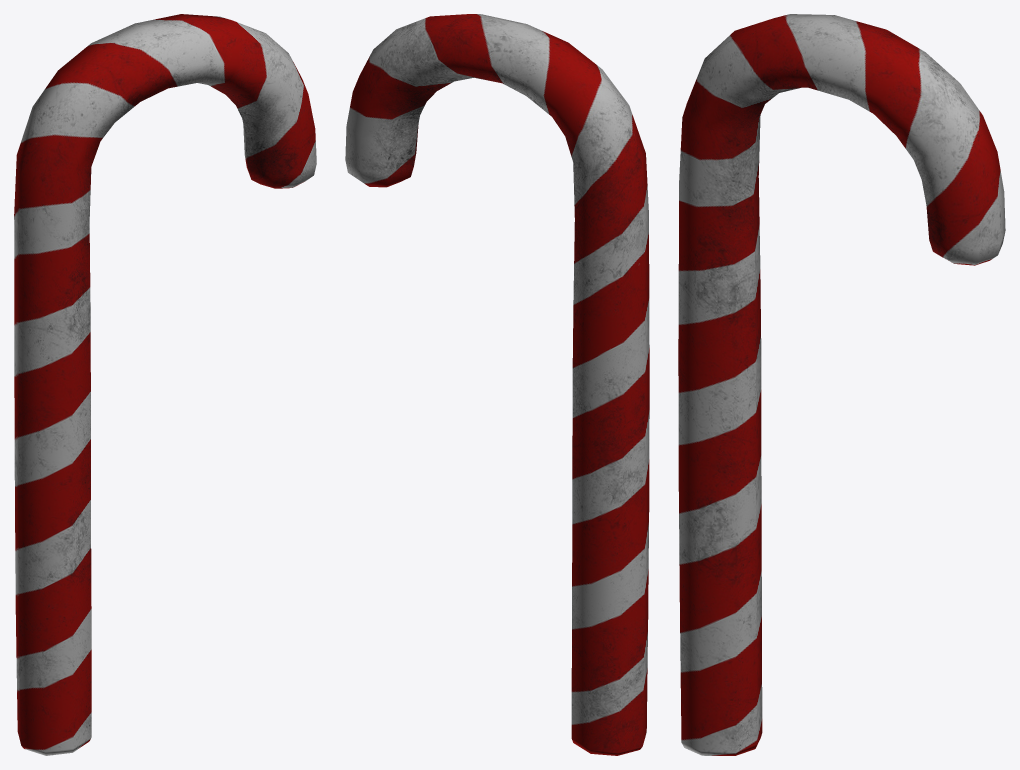
File: candy.glb
The picture shows the model from 3 angles, left to right: view 1: azimuth 30°, elevation 25°; view 2: azimuth 150°, elevation 25°; view 3: azimuth 330°, elevation 25°; orthographic projection. The views are drawn at different scales.
Parts seen in each view (by area): view 1: RetopoGroup1; view 2: RetopoGroup1; view 3: RetopoGroup1.
Boxes of the visible parts, x1,y1,x2,y2 form: RetopoGroup1: (14, 14, 316, 755); RetopoGroup1: (345, 14, 649, 755); RetopoGroup1: (678, 14, 1005, 755).
Size of the model in its own units: 235 by 529 by 53.98.
1 material, 1 textured.
